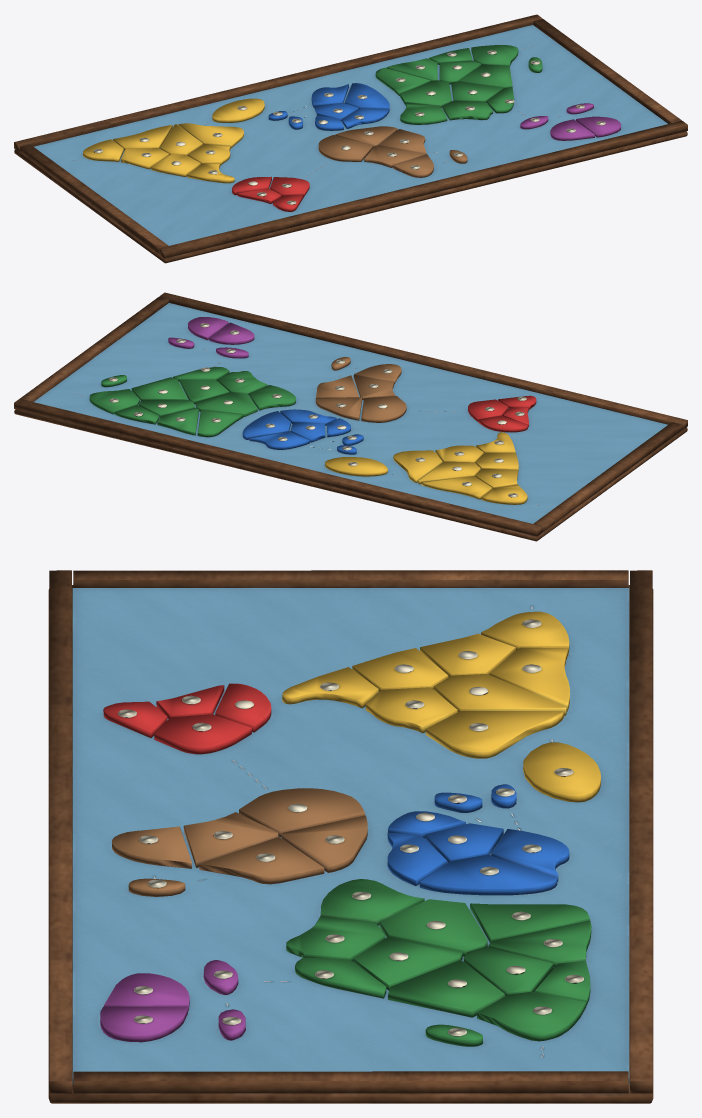
3 renders of one model, top to bottom at view 1: azimuth 30°, elevation 25°; view 2: azimuth 150°, elevation 25°; view 3: azimuth 270°, elevation 25°, orthographic. The views are drawn at different scales.
Visible parts, largest first — view 1: Ocean, FrameRail_S, FrameRail_N, Board, FrameRail_W, FrameRail_E, Territory_NorthAfrica, Territory_Quebec, Territory_Afghanistan, Territory_Greenland, Territory_Mongolia, Territory_NorthwestTerritory (+29 smaller); view 2: Ocean, FrameRail_N, FrameRail_S, Board, FrameRail_W, FrameRail_E, Territory_NorthAfrica, Territory_Afghanistan, Territory_Quebec, Territory_Greenland, Territory_NorthwestTerritory, Territory_Mongolia (+27 smaller); view 3: Ocean, FrameRail_E, FrameRail_N, FrameRail_S, FrameRail_W, Board, Territory_Quebec, Territory_Ukraine, Territory_Mongolia, Territory_NorthAfrica, Territory_Afghanistan, Territory_Kamchatka (+34 smaller).
Part boxes in pixels (left/top/right/bottom): Ocean: left=34, top=25, right=667, bottom=245; FrameRail_S: left=159, top=121, right=687, bottom=258; FrameRail_N: left=14, top=14, right=542, bottom=152; Board: left=14, top=131, right=687, bottom=263; FrameRail_W: left=20, top=144, right=168, bottom=253; FrameRail_E: left=533, top=19, right=681, bottom=123; Territory_NorthAfrica: left=318, top=135, right=372, bottom=161; Territory_Quebec: left=178, top=123, right=243, bottom=147; Territory_Afghanistan: left=400, top=80, right=451, bottom=107; Territory_Greenland: left=212, top=98, right=264, bottom=122; Territory_Mongolia: left=459, top=64, right=512, bottom=88; Territory_NorthwestTerritory: left=113, top=125, right=172, bottom=150; Ocean: left=34, top=303, right=667, bottom=523; FrameRail_N: left=14, top=398, right=542, bottom=536; FrameRail_S: left=159, top=292, right=687, bottom=429; Board: left=14, top=409, right=687, bottom=541; FrameRail_W: left=533, top=422, right=681, bottom=531; FrameRail_E: left=20, top=297, right=168, bottom=401; Territory_NorthAfrica: left=361, top=396, right=406, bottom=422; Territory_Afghanistan: left=195, top=392, right=257, bottom=416; Territory_Quebec: left=393, top=450, right=442, bottom=482; Territory_Greenland: left=325, top=457, right=387, bottom=476; Territory_NorthwestTerritory: left=421, top=476, right=492, bottom=499; Territory_Mongolia: left=131, top=377, right=187, bottom=400; Ocean: left=72, top=588, right=629, bottom=1083; FrameRail_E: left=73, top=1071, right=628, bottom=1093; FrameRail_N: left=630, top=570, right=652, bottom=1093; FrameRail_S: left=49, top=570, right=71, bottom=1093; FrameRail_W: left=73, top=570, right=628, bottom=587; Board: left=48, top=585, right=653, bottom=1103; Territory_Quebec: left=425, top=711, right=564, bottom=758; Territory_Ukraine: left=419, top=854, right=557, bottom=895; Territory_Mongolia: left=388, top=960, right=504, bottom=1017; Territory_NorthAfrica: left=239, top=788, right=364, bottom=837; Territory_Afghanistan: left=379, top=899, right=487, bottom=956; Territory_Kamchatka: left=477, top=991, right=586, bottom=1041.
Size of the model in its own units: 2 by 0.0434 by 0.9996.
1 material, 1 textured.
